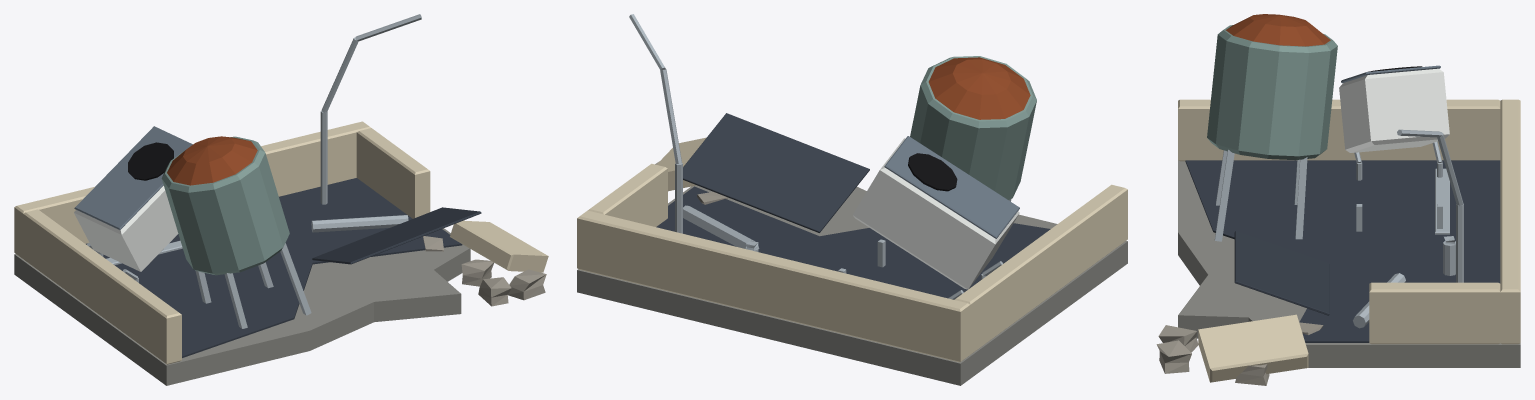
Rendered from DESTROY_07.obj.
3 renders of one model, left to right at view 1: azimuth 30°, elevation 25°; view 2: azimuth 150°, elevation 25°; view 3: azimuth 270°, elevation 25°, orthographic. The views are drawn at different scales.
Parts seen in each view (by area): view 1: DESTROY_07__slab, DESTROY_07__membrane, DESTROY_07__tank, DESTROY_07__parapet_left, DESTROY_07__parapet_back, DESTROY_07__parapet_right_stub, DESTROY_07__ac_housing, DESTROY_07__ac_top, DESTROY_07__tank_roof, DESTROY_07__membrane_peeled, DESTROY_07__parapet_right_fallen, DESTROY_07__parapet_rubble (+4 smaller); view 2: DESTROY_07__parapet_back, DESTROY_07__slab, DESTROY_07__membrane_peeled, DESTROY_07__membrane, DESTROY_07__parapet_left, DESTROY_07__ac_housing, DESTROY_07__tank, DESTROY_07__tank_roof, DESTROY_07__ac_top, DESTROY_07__parapet_right_stub, DESTROY_07__mast_bent, DESTROY_07__ac_fan_ring (+2 smaller); view 3: DESTROY_07__membrane, DESTROY_07__tank, DESTROY_07__slab, DESTROY_07__parapet_right_stub, DESTROY_07__parapet_left, DESTROY_07__ac_housing, DESTROY_07__parapet_right_fallen, DESTROY_07__parapet_back, DESTROY_07__membrane_peeled, DESTROY_07__tank_roof, DESTROY_07__parapet_rubble, DESTROY_07__tank_leg (+7 smaller).
Part boxes in pixels (x1,y1,x2,y2): DESTROY_07__slab: (14,228,470,385); DESTROY_07__membrane: (86,178,462,357); DESTROY_07__tank: (161,136,289,275); DESTROY_07__parapet_left: (23,209,181,364); DESTROY_07__parapet_back: (14,121,370,259); DESTROY_07__parapet_right_stub: (356,128,430,218); DESTROY_07__ac_housing: (74,185,178,271); DESTROY_07__ac_top: (74,126,192,229); DESTROY_07__tank_roof: (167,136,257,185); DESTROY_07__membrane_peeled: (312,207,481,264); DESTROY_07__parapet_right_fallen: (450,220,548,272); DESTROY_07__parapet_rubble: (423,236,546,306); DESTROY_07__parapet_back: (577,210,970,362); DESTROY_07__slab: (577,185,1127,385); DESTROY_07__membrane_peeled: (683,113,869,232); DESTROY_07__membrane: (656,186,1050,298); DESTROY_07__parapet_left: (954,184,1127,354); DESTROY_07__ac_housing: (853,138,1019,289); DESTROY_07__tank: (910,56,1036,199); DESTROY_07__tank_roof: (928,57,1030,119); DESTROY_07__ac_top: (884,136,1019,238); DESTROY_07__parapet_right_stub: (588,163,667,226); DESTROY_07__mast_bent: (629,14,682,233); DESTROY_07__ac_fan_ring: (908,153,957,191); DESTROY_07__membrane: (1185,160,1500,342); DESTROY_07__tank: (1207,25,1337,160); DESTROY_07__slab: (1178,160,1520,367); DESTROY_07__parapet_right_stub: (1369,282,1500,344); DESTROY_07__parapet_left: (1178,99,1500,161); DESTROY_07__ac_housing: (1339,68,1449,152); DESTROY_07__parapet_right_fallen: (1198,314,1308,382); DESTROY_07__parapet_back: (1500,99,1520,344); DESTROY_07__membrane_peeled: (1234,231,1329,315); DESTROY_07__tank_roof: (1226,14,1330,46); DESTROY_07__parapet_rubble: (1156,322,1323,385); DESTROY_07__tank_leg: (1214,149,1307,241).
Size of the model in its own units: 5.12 by 2.66 by 3.61.
